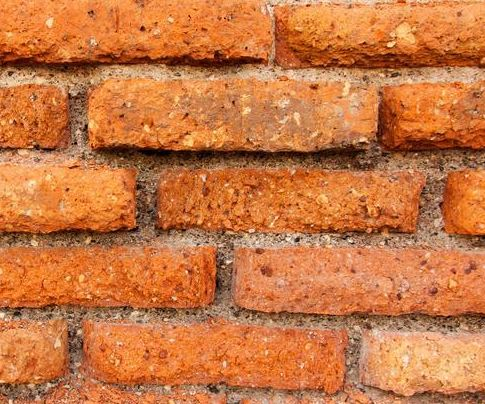brick: (87, 74, 379, 154), (80, 317, 347, 395), (234, 244, 485, 320), (155, 166, 427, 235), (1, 1, 272, 67), (1, 244, 223, 312), (274, 1, 485, 68), (1, 162, 140, 235), (359, 329, 485, 398), (381, 78, 485, 150), (1, 314, 71, 385), (1, 82, 72, 149)
